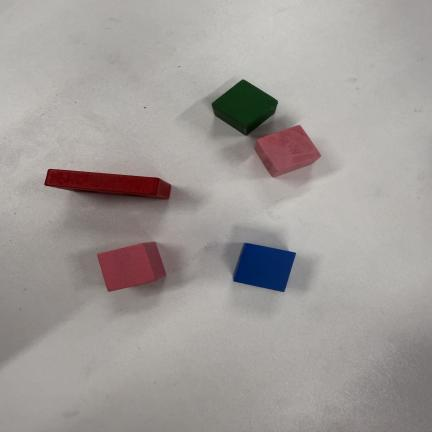BuildingBlocks: (45, 170, 170, 199), (212, 80, 277, 134), (255, 125, 321, 177), (98, 242, 165, 291), (234, 243, 295, 291)
